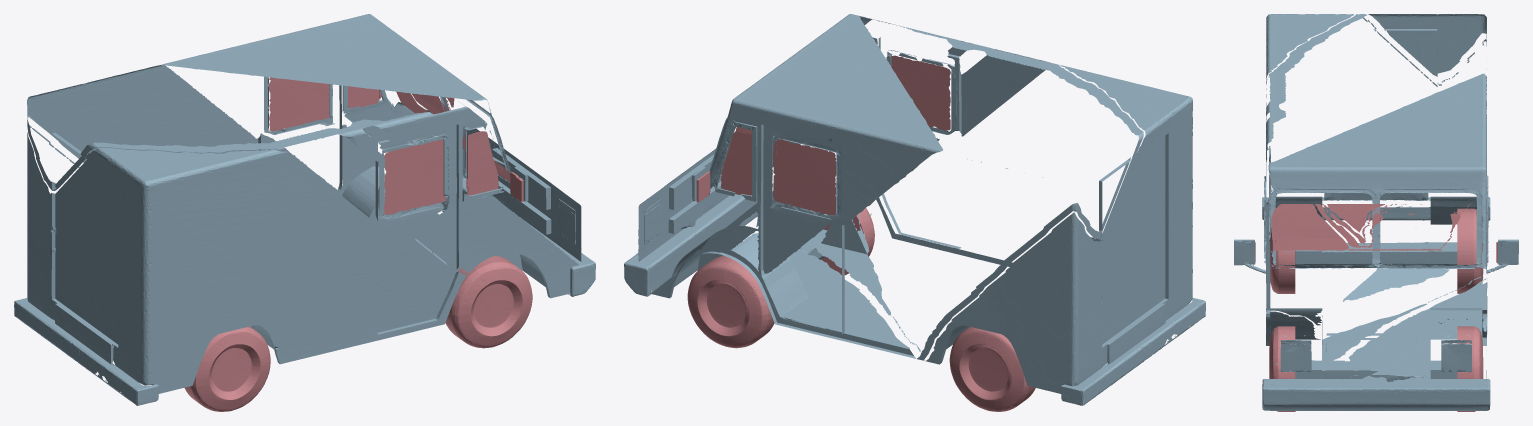
The model's file is tk_both.glb.
The picture shows the model from 3 angles, left to right: view 1: azimuth 30°, elevation 25°; view 2: azimuth 150°, elevation 25°; view 3: azimuth 270°, elevation 25°; orthographic projection. The views are drawn at different scales.
Parts seen in each view (by area): view 1: part0, part6, part2, part4, part3, part8, part9, part7; view 2: part0, part5, part1, part3, part4, part7, part6; view 3: part0, part9, part1, part2, part5, part6.
Boxes of the visible parts, bbox=[...] form: part0: bbox=[14, 14, 595, 405]; part6: bbox=[445, 255, 532, 348]; part2: bbox=[184, 326, 270, 411]; part4: bbox=[384, 139, 446, 214]; part3: bbox=[269, 77, 329, 131]; part8: bbox=[466, 131, 498, 195]; part9: bbox=[396, 91, 510, 181]; part7: bbox=[347, 86, 379, 108]; part0: bbox=[624, 14, 1205, 405]; part5: bbox=[687, 255, 774, 348]; part1: bbox=[949, 327, 1035, 411]; part3: bbox=[773, 139, 836, 215]; part4: bbox=[891, 55, 950, 130]; part7: bbox=[721, 131, 751, 195]; part6: bbox=[789, 185, 874, 276]; part0: bbox=[1234, 14, 1518, 410]; part9: bbox=[1271, 204, 1470, 252]; part1: bbox=[1457, 208, 1483, 293]; part2: bbox=[1270, 228, 1295, 293]; part5: bbox=[1457, 326, 1483, 411]; part6: bbox=[1269, 326, 1295, 411].
Bounding box in the file's own units: 0.9983 × 0.5304 × 0.5805.
